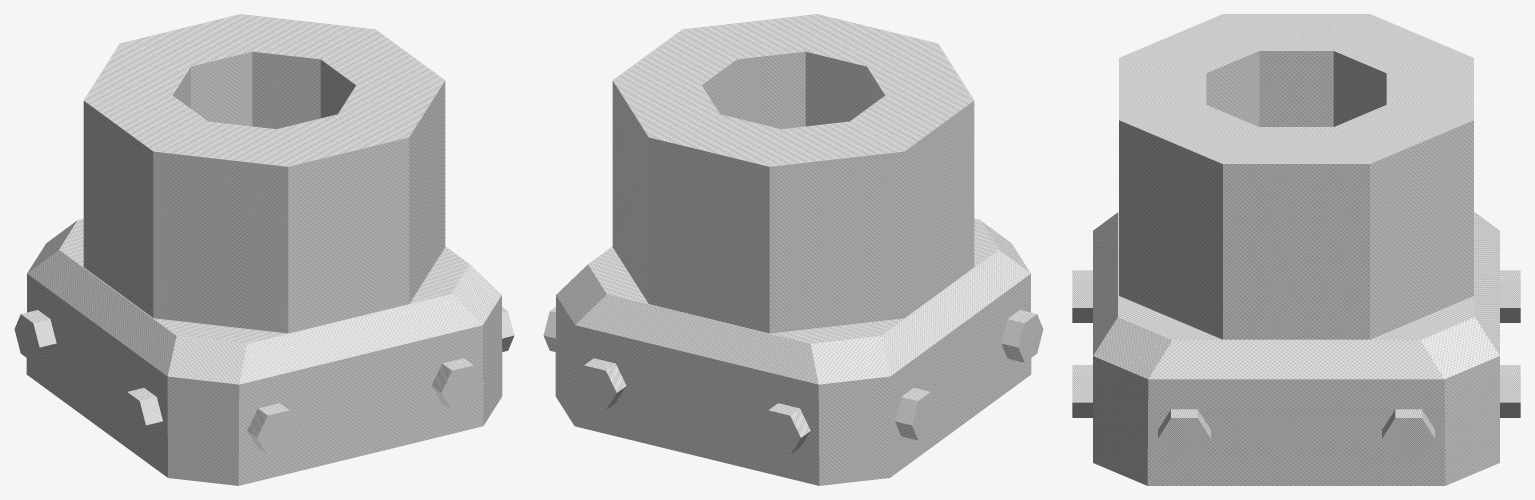
Rendered from CPU.dae.
The picture shows the model from 3 angles, left to right: view 1: azimuth 30°, elevation 25°; view 2: azimuth 150°, elevation 25°; view 3: azimuth 270°, elevation 25°; orthographic projection. The views are drawn at different scales.
Parts seen in each view (by area): view 1: CPU; view 2: CPU; view 3: CPU.
Boxes of the visible parts, x1,y1,x2,y2 form: CPU: [14, 14, 514, 485]; CPU: [543, 14, 1043, 485]; CPU: [1072, 14, 1520, 485].
Size of the model in its own units: 2 by 1.53 by 2.
